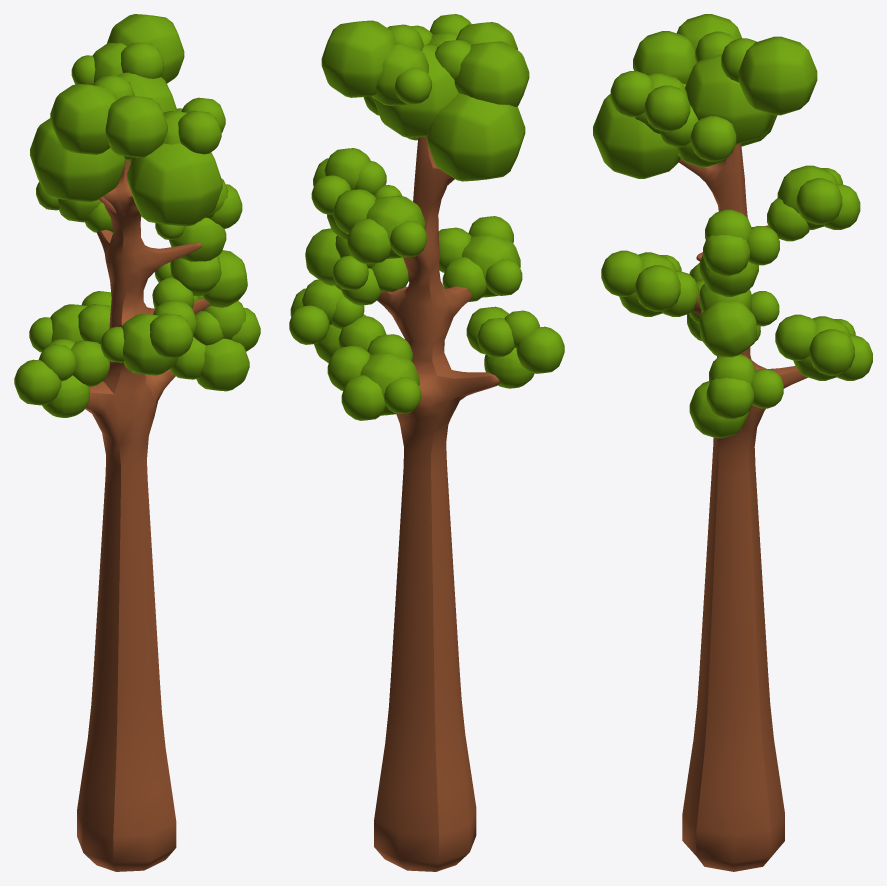
File: e_tree01.fbx
The picture shows the model from 3 angles, left to right: view 1: azimuth 30°, elevation 25°; view 2: azimuth 150°, elevation 25°; view 3: azimuth 270°, elevation 25°; orthographic projection. The views are drawn at different scales.
Visible parts, largest first — view 1: e_tree01; view 2: e_tree01; view 3: e_tree01.
Boxes of the visible parts, <box> form: e_tree01: <box>14,14,260,871</box>; e_tree01: <box>289,14,564,871</box>; e_tree01: <box>593,14,872,871</box>.
Bounding box in the file's own units: 3.43 × 10.83 × 3.26.
